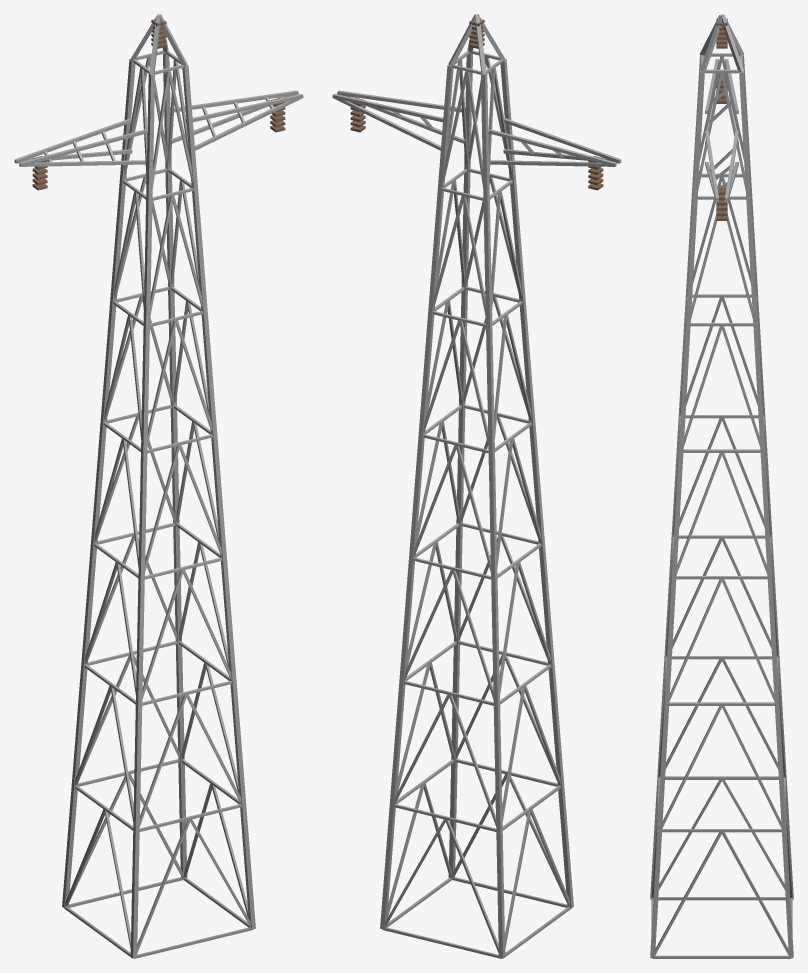
3 views of the same model, side by side, from view 1: azimuth 30°, elevation 25°; view 2: azimuth 150°, elevation 25°; view 3: azimuth 270°, elevation 25° (orthographic).
Parts seen in each view (by area): view 1: pylon_body, pylon_trim; view 2: pylon_body, pylon_trim; view 3: pylon_body, pylon_trim.
Part boxes in pixels (box(x1,y1,x2,y2)): pylon_body: box(14, 14, 303, 958); pylon_trim: box(32, 19, 285, 190); pylon_body: box(332, 14, 621, 958); pylon_trim: box(350, 19, 603, 190); pylon_body: box(650, 14, 793, 958); pylon_trim: box(716, 18, 727, 220).
Size of the model in its own units: 7.62 by 23.25 by 3.31.
